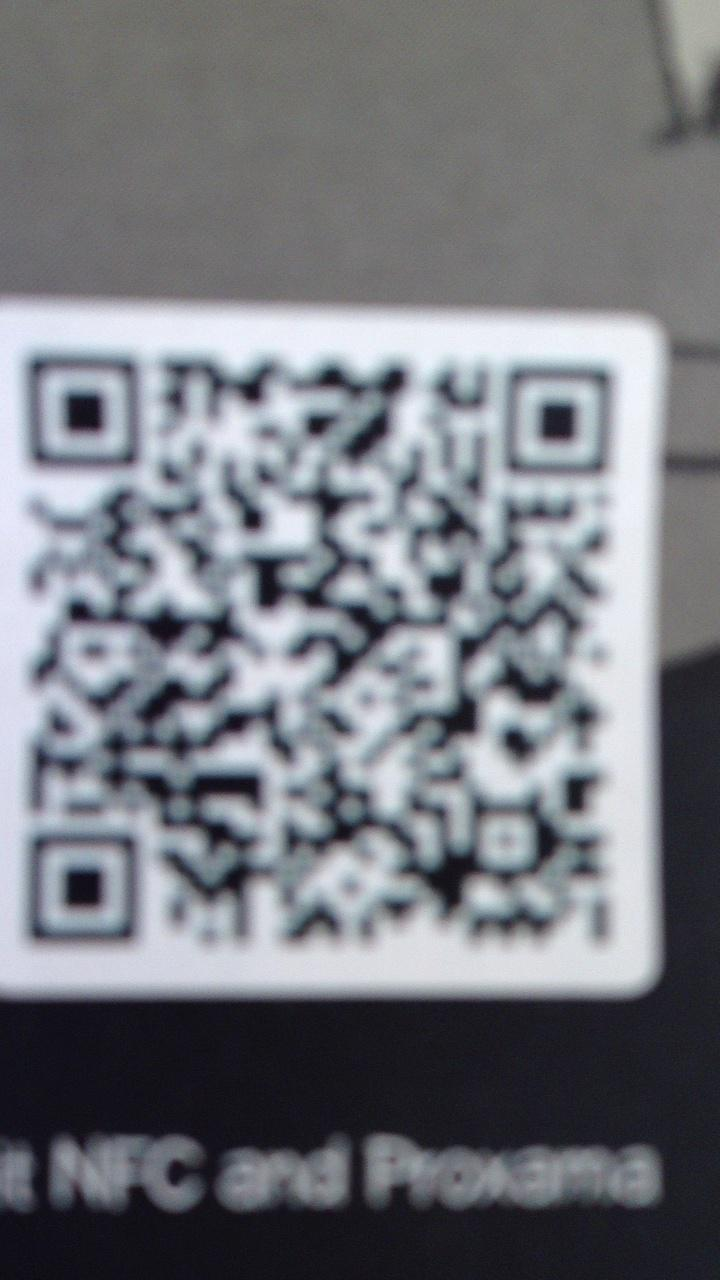Finder pattern: (17, 346, 148, 476), (18, 824, 149, 952), (492, 355, 616, 483)
